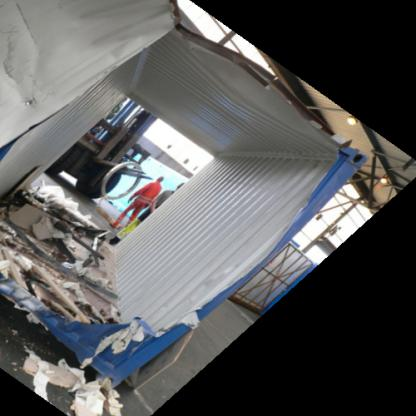Damage: (7, 120, 363, 372)
